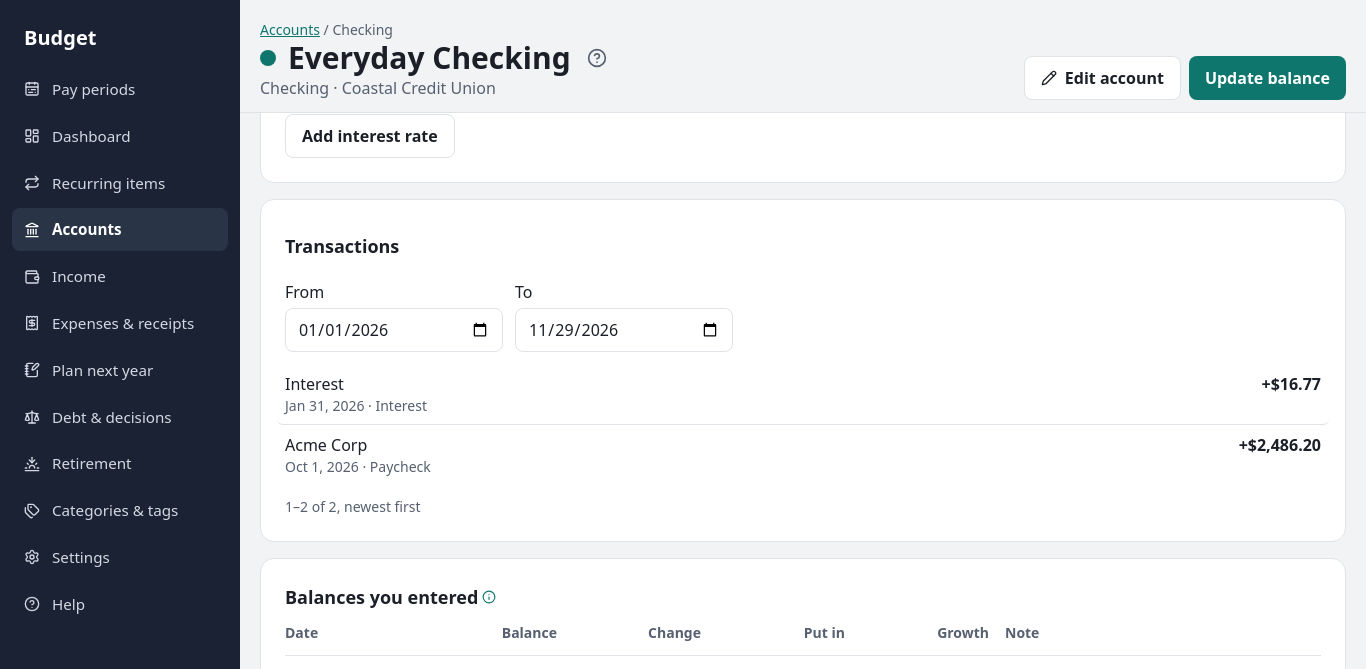
Test: account detail screen › types over a month's interest from its line, and nothing else opens
(page scrolled)
Click the button with aria-label "Edit Interest" at (314, 384), box 285,372 -> 344,396
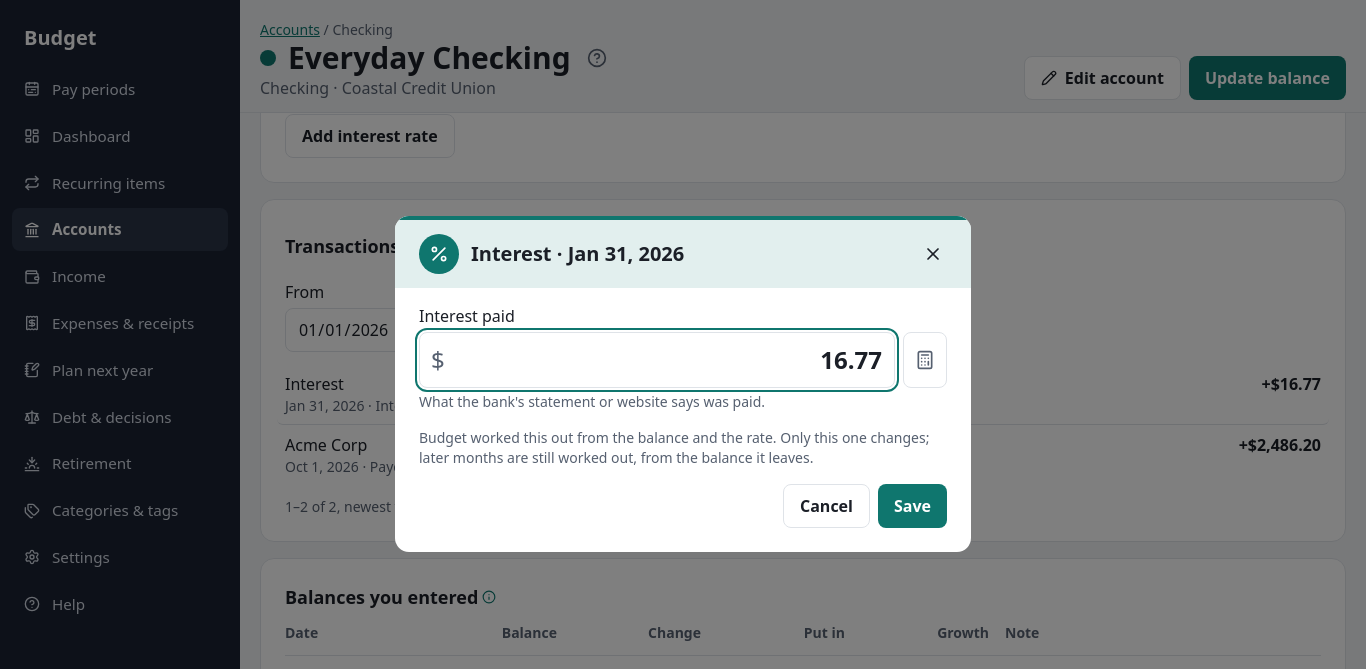
Check: the field labelled "Interest paid" holds "16.77"
Check: the dialog "Interest · Jan 31, 2026" shows "Budget worked this out from the balance and the rate.", box 419,428 -> 780,447
Replace the text in the field labelled "Interest paid" with "15" at (657, 360), box 419,332 -> 895,388
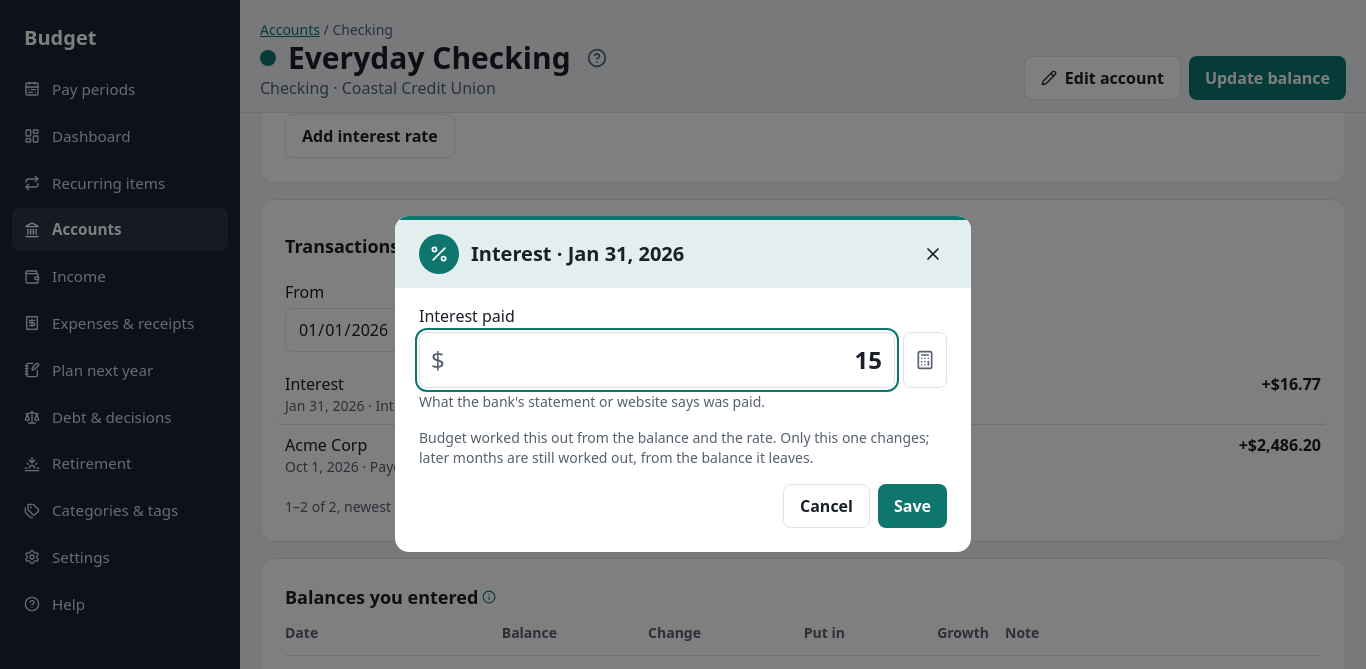
Click the button "Save" at (912, 506), box 878,484 -> 947,528
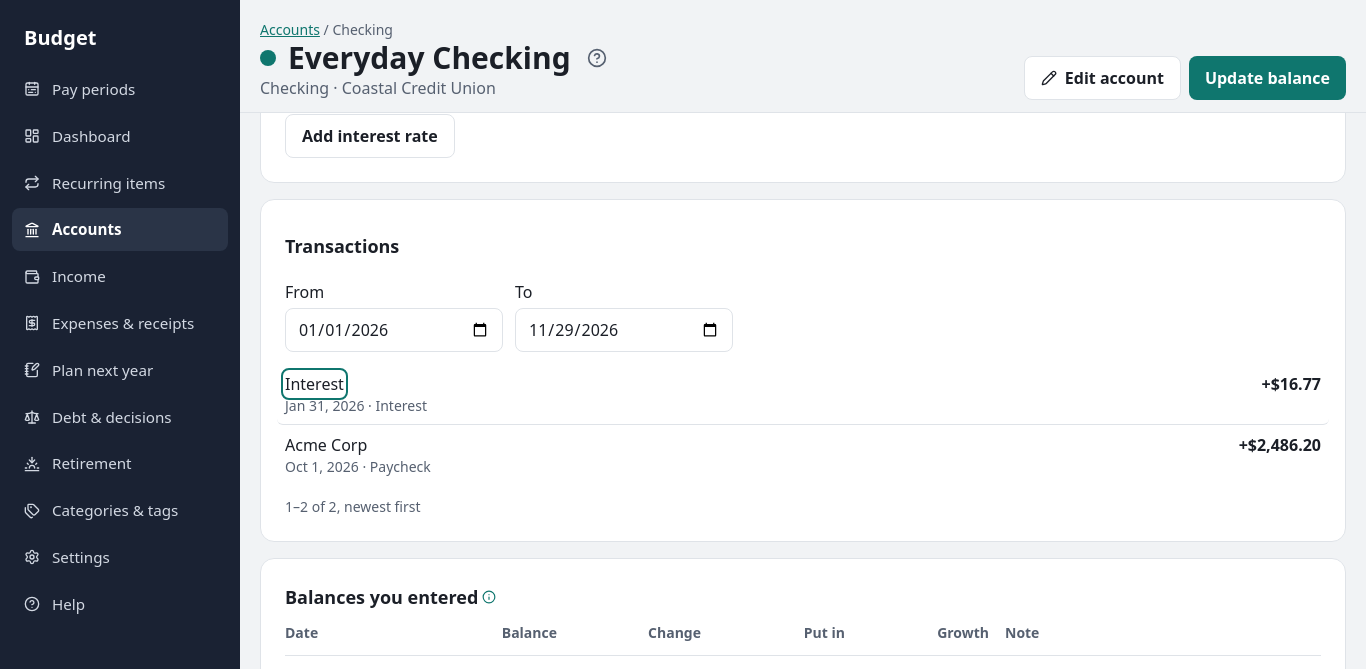
Check: the dialog is gone
